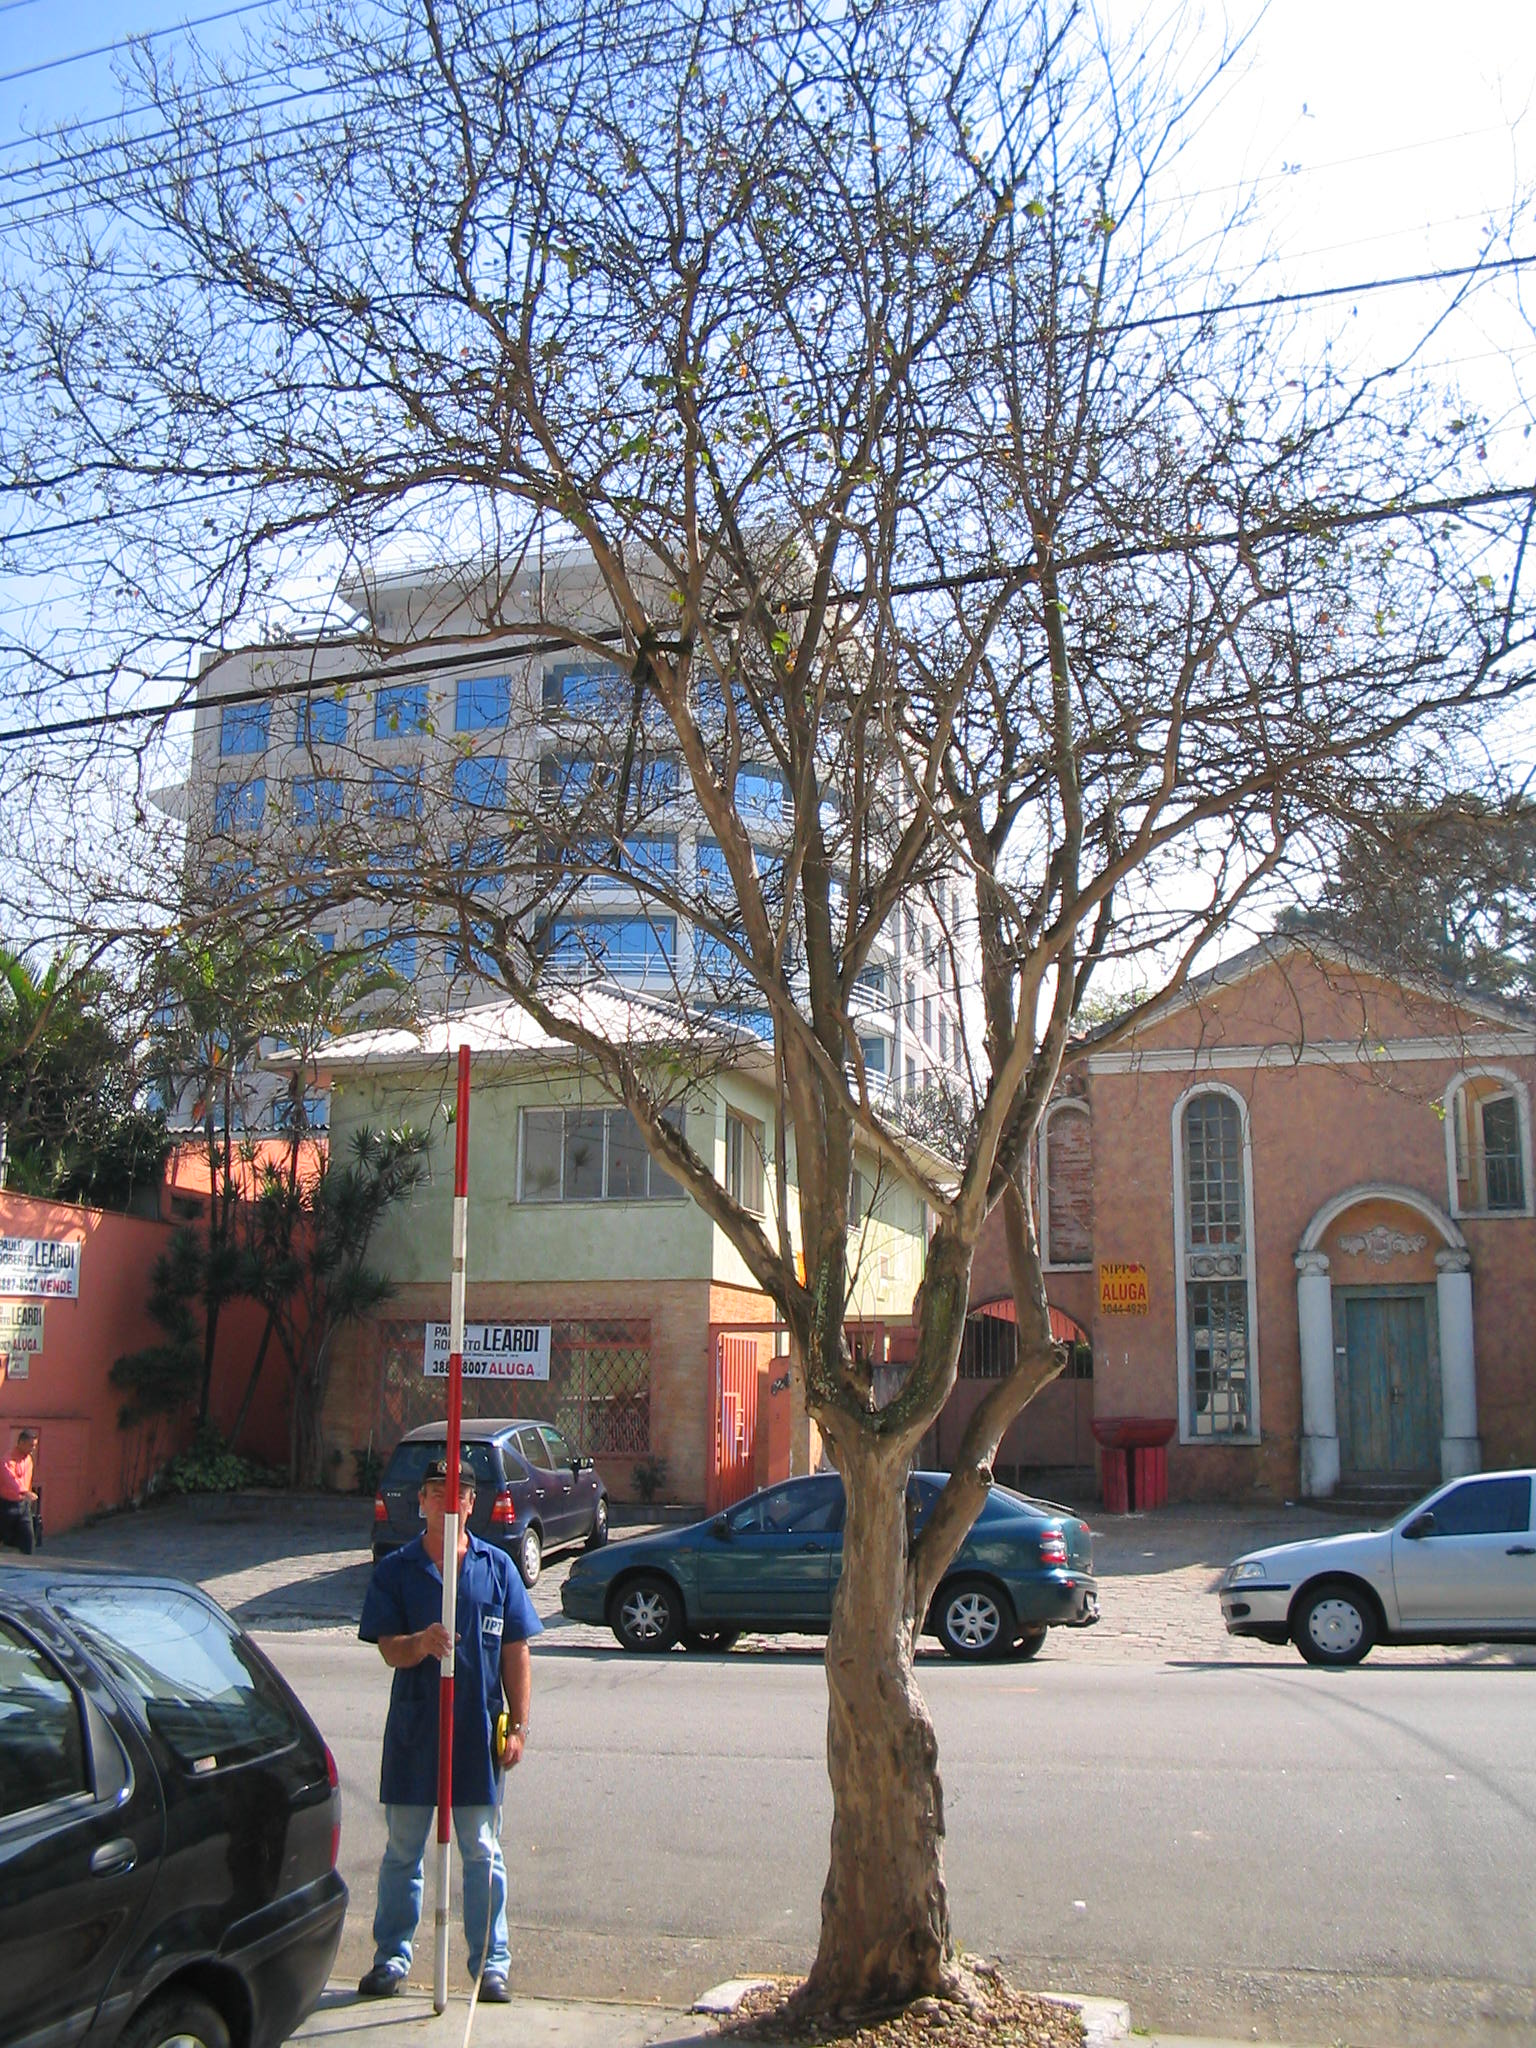stem: (766, 1455, 999, 2017)
stick: (421, 1035, 490, 2017)
tree: (8, 10, 1526, 2014)
